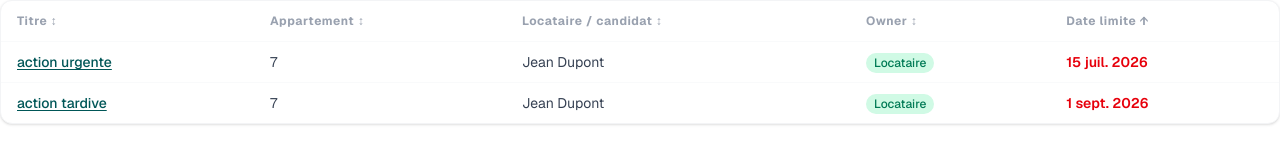
Test case: AdminActionsTable — tri des colonnes › inverse le tri au clic sur la colonne déjà active (Date limite, triée croissant par défaut)
Click the button "Date limite ↑". click: (1107, 21)
box: [1066,13,1149,29]
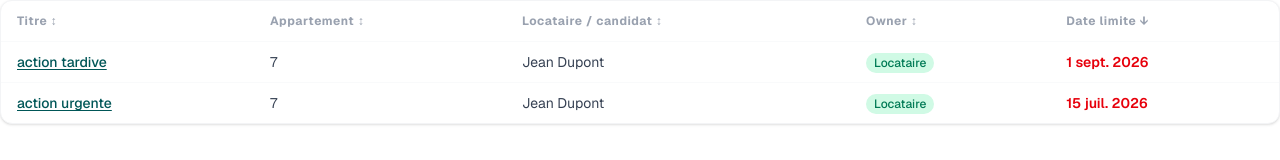
Expected: the link "action tardive" is shown, [17,53,107,71]
Expected: the link "action urgente" is shown, [17,94,112,112]
